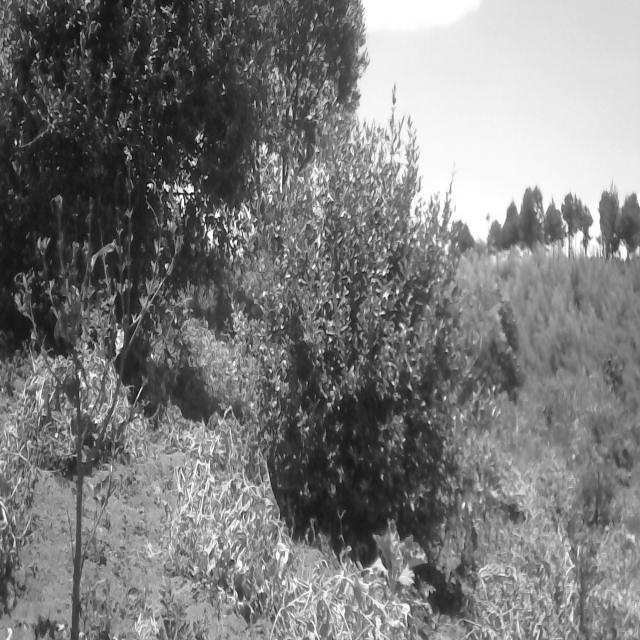Olea europea -africana-: (267, 117, 488, 569), (0, 0, 270, 336)
